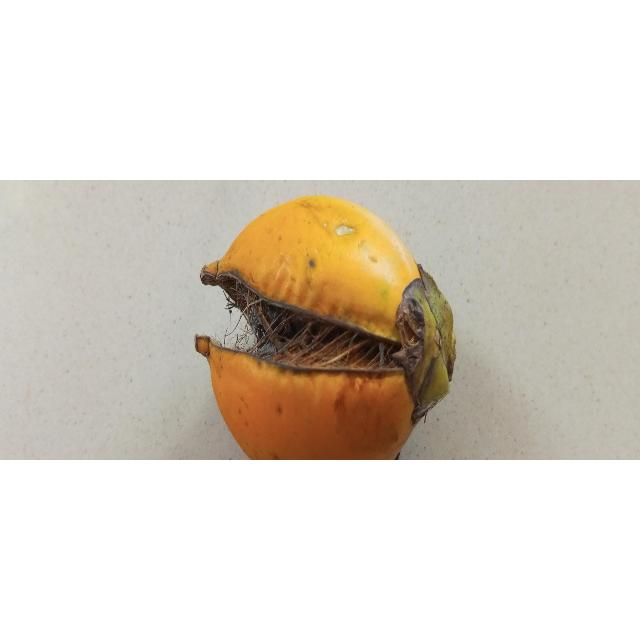damaged: (194, 196, 456, 461)
